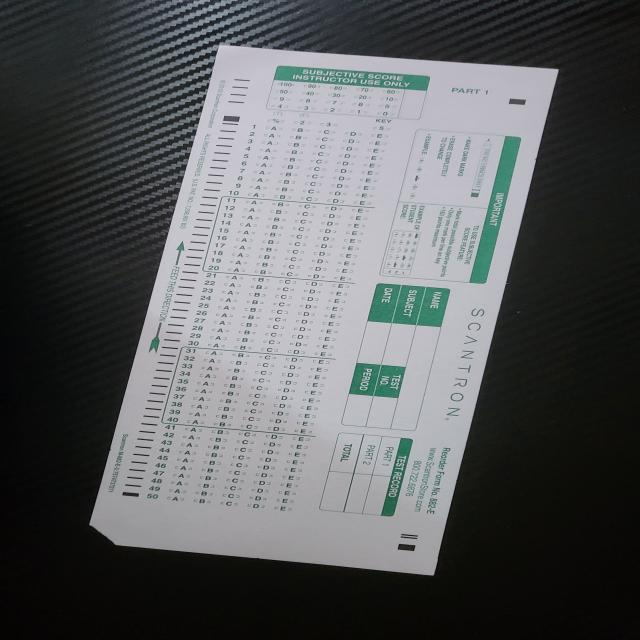scantron: (88, 45, 560, 575)
